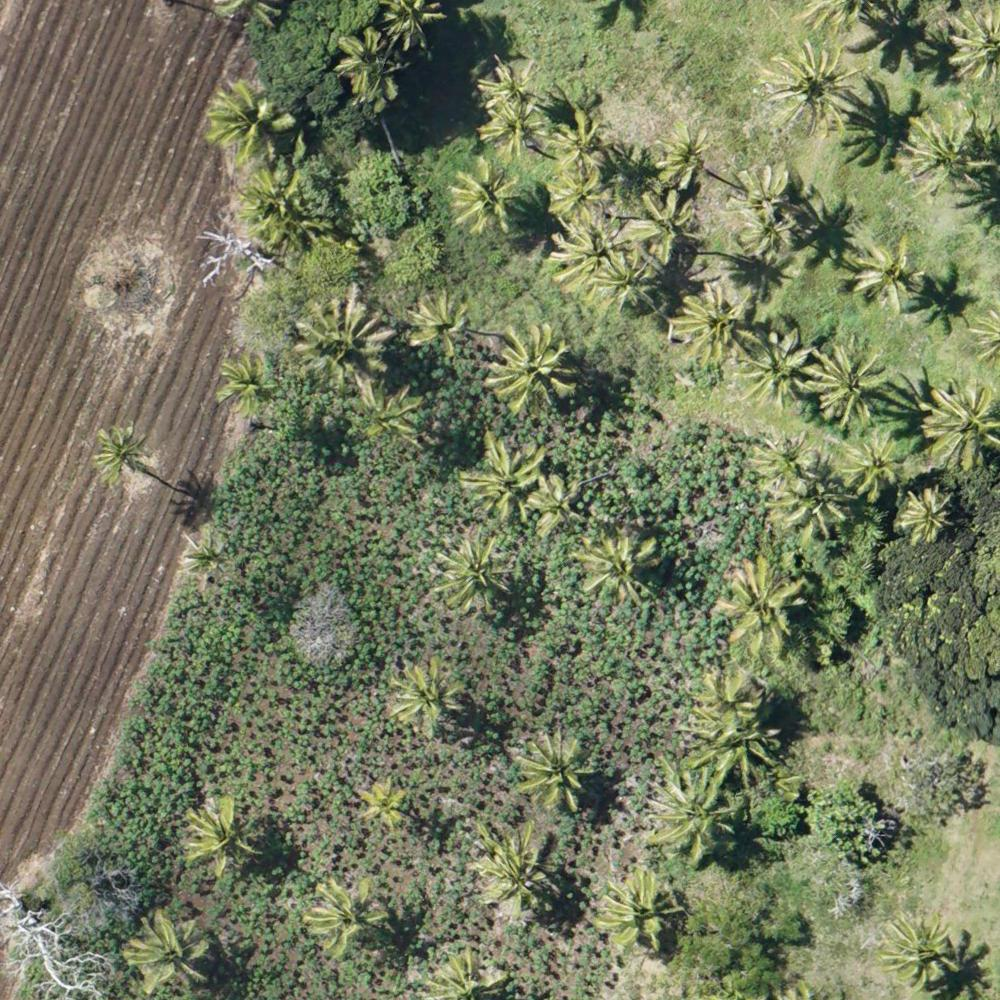Palm: (647, 768, 745, 862), (768, 43, 863, 139), (293, 291, 386, 386), (803, 341, 895, 425), (716, 567, 813, 646), (461, 435, 548, 523), (597, 869, 682, 958), (488, 324, 576, 409), (738, 322, 819, 410), (919, 383, 999, 471), (904, 107, 986, 192), (475, 828, 557, 911), (201, 79, 286, 158), (125, 914, 209, 993), (885, 905, 970, 983), (434, 532, 517, 611), (513, 732, 593, 812), (552, 211, 626, 297), (306, 876, 385, 954), (383, 659, 465, 732), (684, 710, 774, 776), (580, 528, 657, 605), (186, 792, 264, 868), (674, 292, 750, 369), (732, 169, 804, 247), (771, 475, 854, 542), (443, 162, 517, 235), (856, 239, 931, 311), (233, 175, 307, 241), (629, 188, 699, 254), (334, 28, 402, 92), (404, 292, 474, 354), (842, 436, 908, 501), (476, 101, 548, 159), (596, 248, 663, 310), (754, 432, 820, 492), (213, 354, 278, 412), (657, 122, 713, 189), (356, 390, 425, 443), (474, 56, 540, 111), (87, 429, 149, 485), (551, 106, 607, 167), (181, 527, 235, 588), (529, 472, 582, 530), (546, 163, 607, 211), (361, 777, 412, 829), (903, 491, 955, 540)
